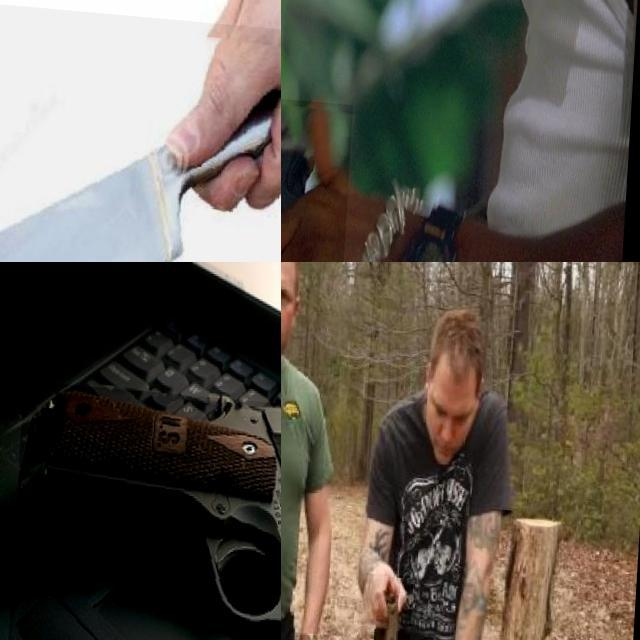-: (0, 0, 281, 262), (359, 566, 418, 640)
gun-knife-thesis - v11 Yolov5 augmented: (6, 379, 281, 640), (281, 82, 398, 262)
